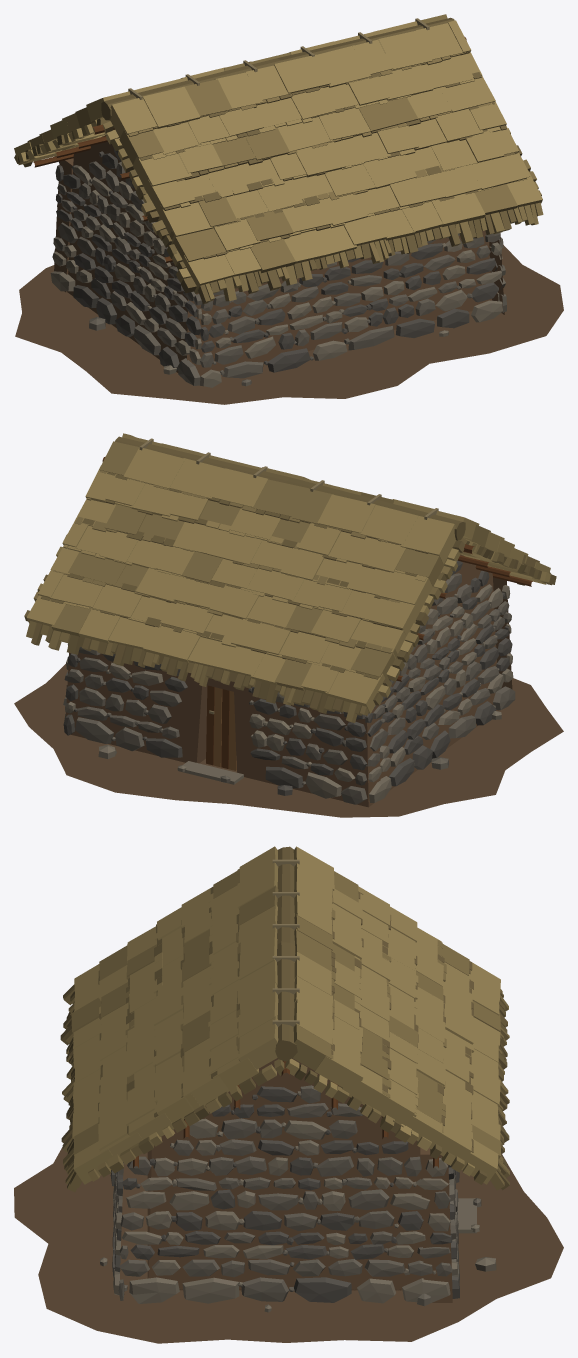
Rendered from pch_house_a.glb.
3 views of the same model, one above another, from view 1: azimuth 30°, elevation 25°; view 2: azimuth 150°, elevation 25°; view 3: azimuth 270°, elevation 25° (orthographic). The views are drawn at different scales.
Parts seen in each view (by area): view 1: pch_house_a; view 2: pch_house_a; view 3: pch_house_a.
Part boxes in pixels (<box>): pch_house_a: <box>14,14,563,404</box>; pch_house_a: <box>14,433,563,817</box>; pch_house_a: <box>14,846,563,1343</box>.
Size of what is drawn, in the model's own units: 9.06 by 4.54 by 8.15.
